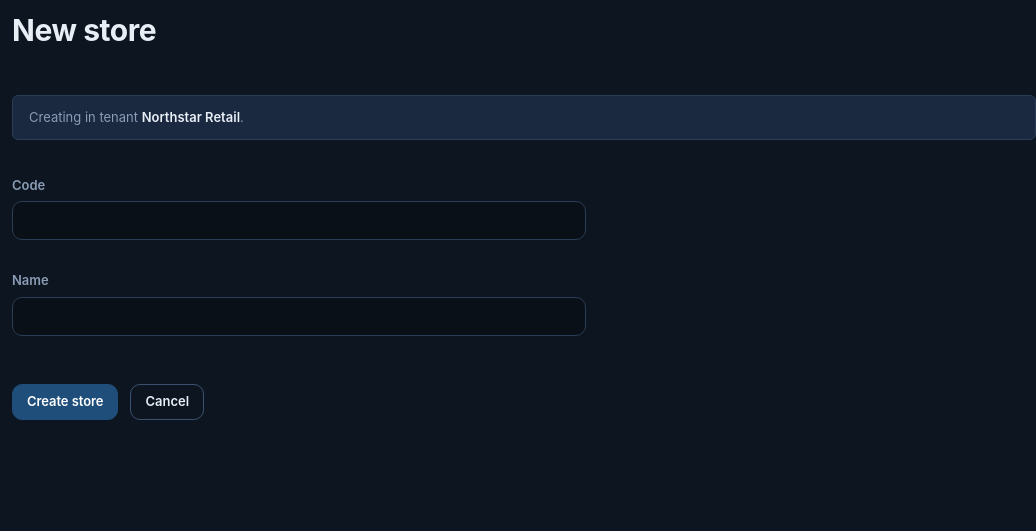
Scenario: StoreForm create › 403 -> persistent banner with request_id
This screenshot has width=1036, height=531.
Type "X" into the field labelled "Code" at (299,221), box 12,201 -> 586,240
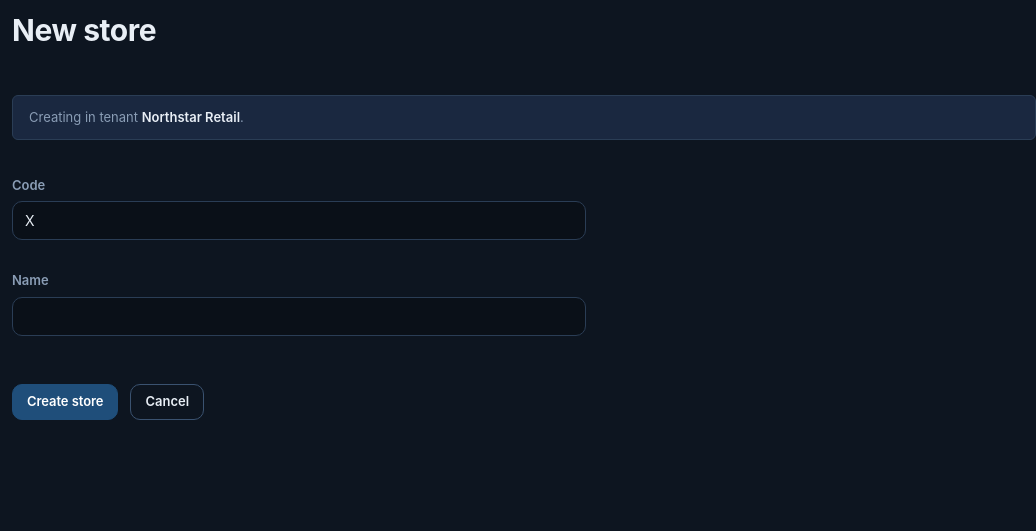
Type "Y" into the field labelled "Name" at (299,316), box 12,296 -> 586,336
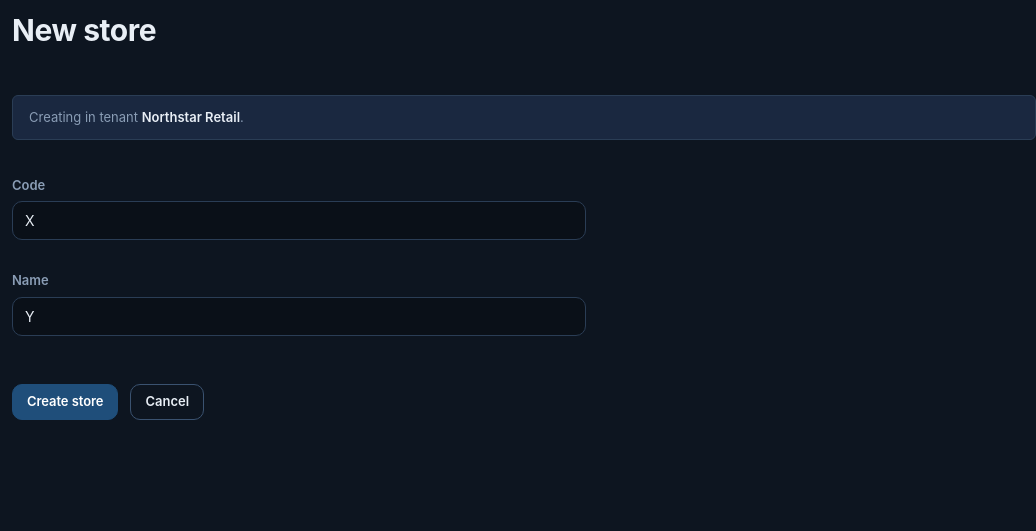
Click the button "Create store" at (65,402), box 12,384 -> 118,420
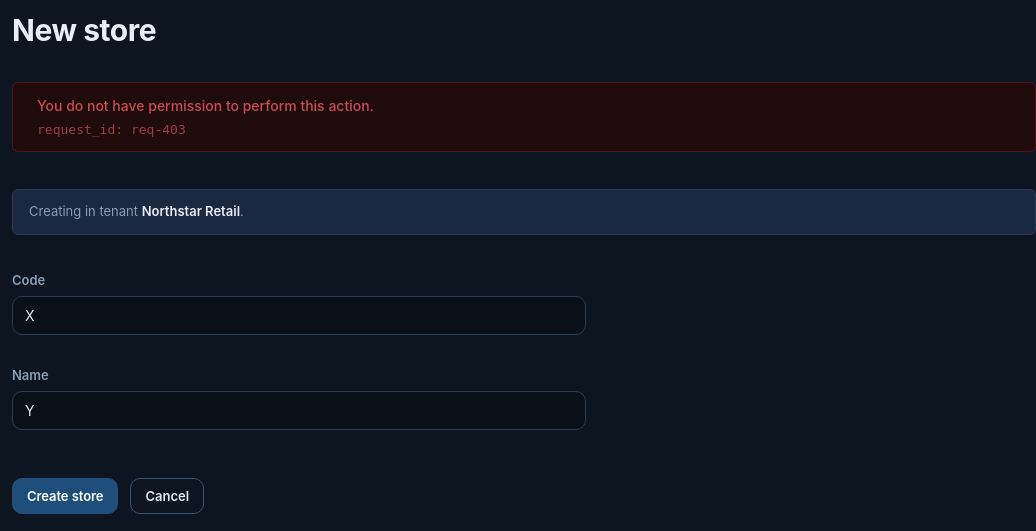
expect the message "You do not have permission to perform this action. request_id: req-403" is shown: met, box 12,82 -> 1035,152
expect the text "request_id: req-403" is shown: met, box 37,122 -> 186,136
